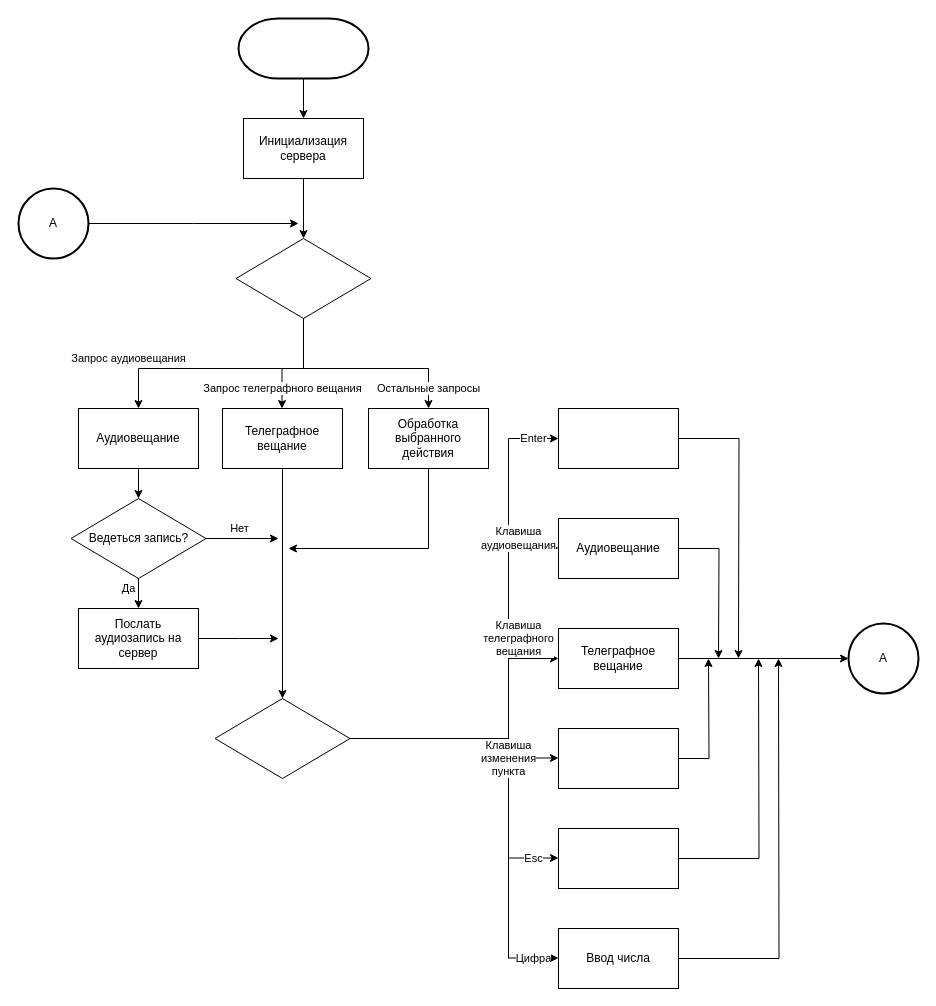
This 936x1006 diagram has some shape labels left out. The box of each missing label's shape, as (x1, y1, x2, y2) in pixels:
Выбор пункта меню: (558, 408, 678, 468)
Изменить указатель пункта: (558, 728, 678, 788)
Начало: (237, 17, 369, 79)
Обработка запроса: (235, 238, 371, 318)
Обработка нажатой клавиши: (214, 698, 350, 778)
Перейти назад: (558, 828, 678, 888)
